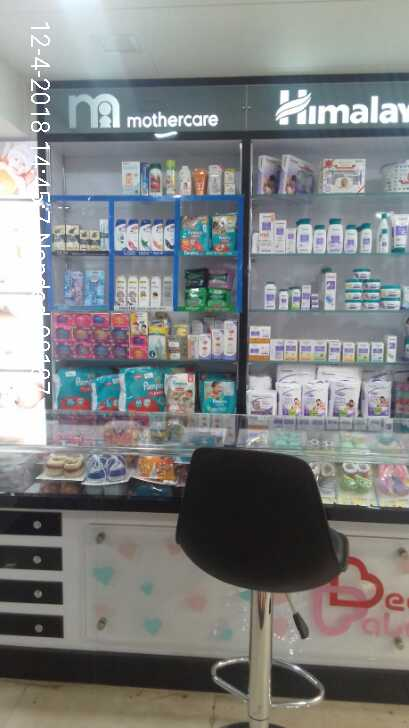venus: (65, 270, 86, 304), (86, 270, 103, 304)
